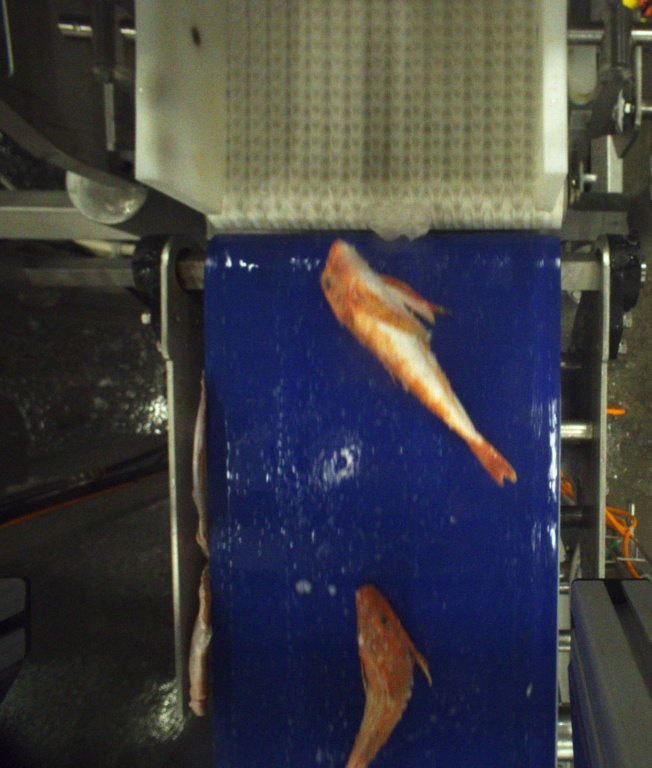GUU: (320, 235, 517, 483)
